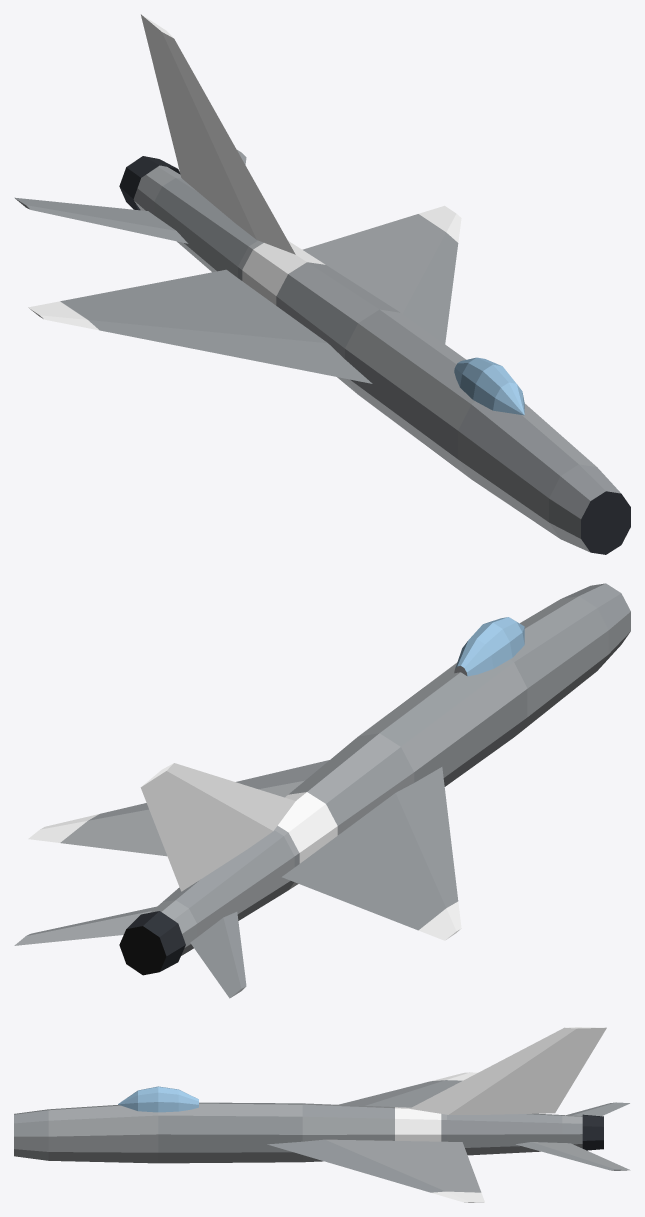
Rendered from mig21f13_lod.glb.
3 views of the same model, one above another, from view 1: azimuth 30°, elevation 25°; view 2: azimuth 150°, elevation 25°; view 3: azimuth 270°, elevation 25° (orthographic). The views are drawn at different scales.
Visible parts, largest first — view 1: body; view 2: body; view 3: body.
Boxes of the visible parts, x1=… form: body: x1=14, y1=14, x2=630, y2=554; body: x1=14, y1=583, x2=630, y2=998; body: x1=14, y1=1027, x2=630, y2=1202.
Bounding box in the file's own units: 7.15 × 3.46 × 14.39.
